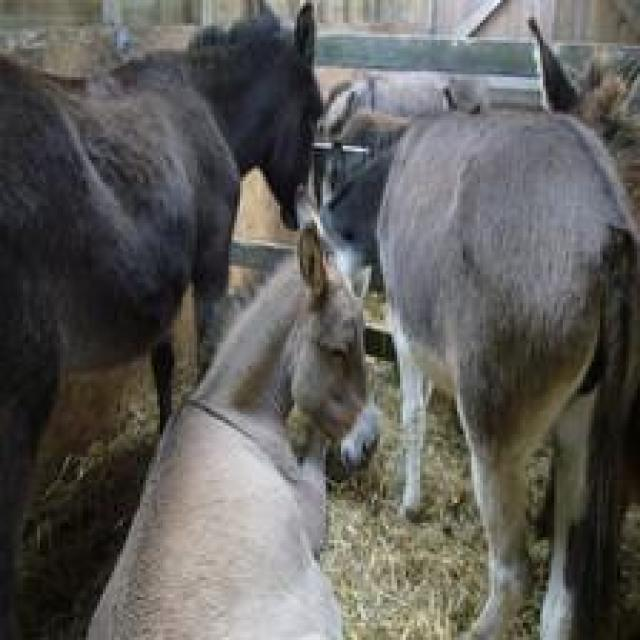Donkey: (0, 0, 323, 637), (372, 14, 637, 637), (74, 214, 380, 637), (312, 69, 492, 520), (526, 12, 637, 637), (312, 69, 492, 200)
